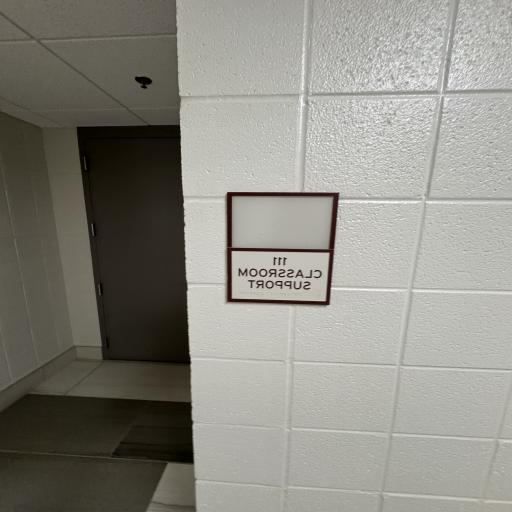room 111 sign: (223, 188, 342, 312)
